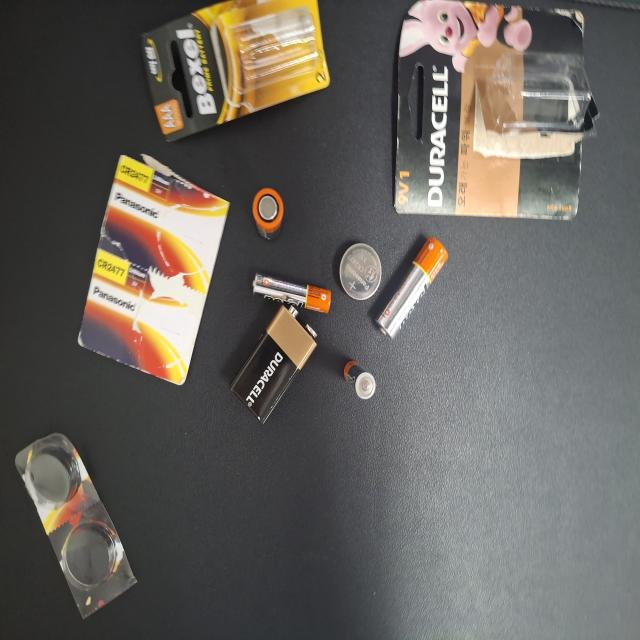9V: (162, 307, 251, 422)
AA: (227, 501, 302, 597), (301, 337, 339, 378)
AAA: (245, 336, 275, 440), (181, 458, 209, 501)
COIN: (255, 452, 297, 509)
